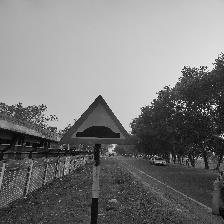Speed-breaker: (60, 96, 133, 144)
